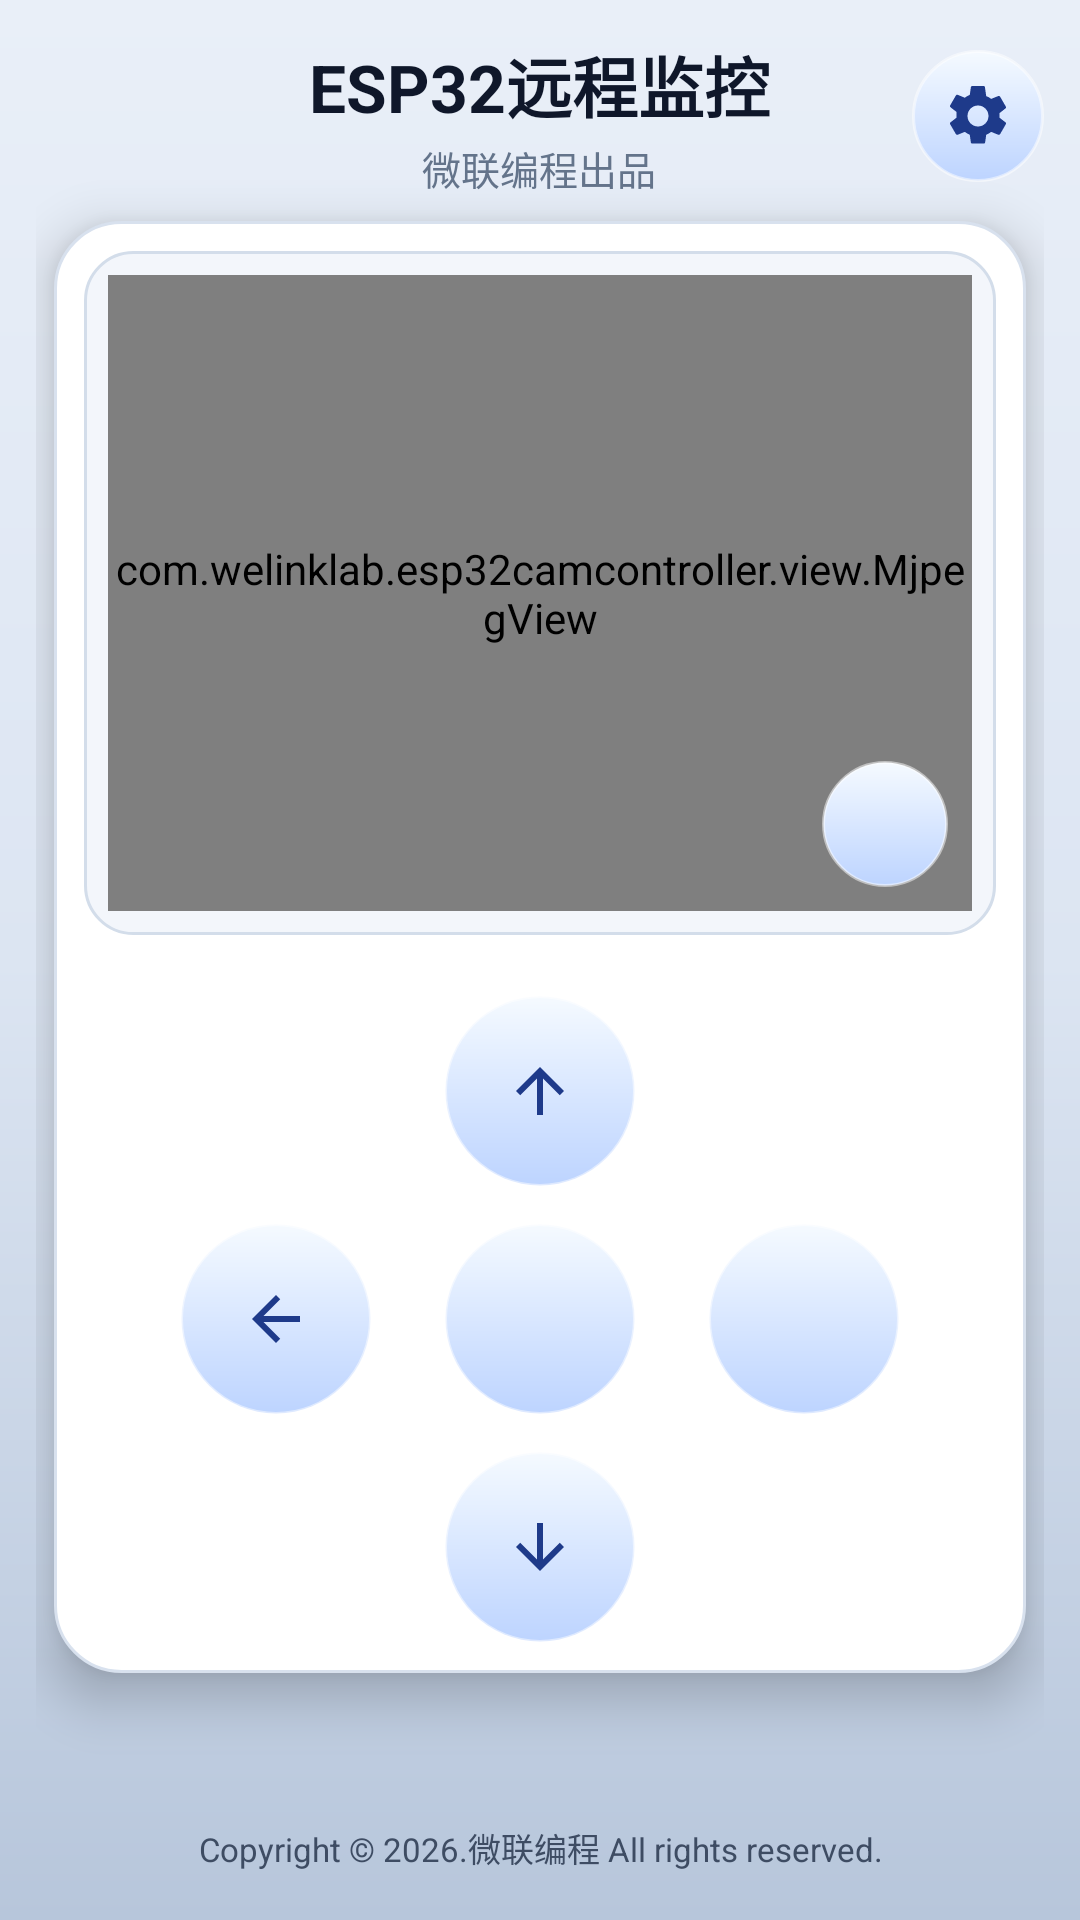

Named icons in this screenshot (1080*1920) and their centers, (x=x, y=y):
向上: (x=540, y=1115)
向下: (x=540, y=1571)
向左: (x=276, y=1343)
设置: (x=978, y=116)
